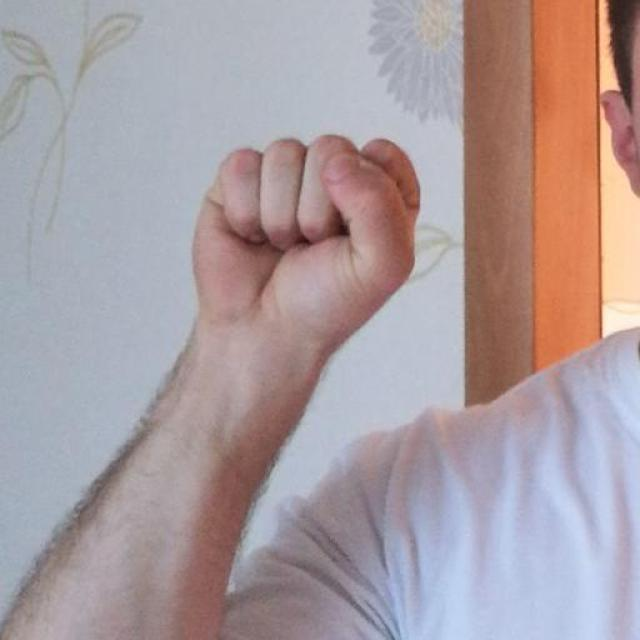hand: (190, 131, 422, 355)
